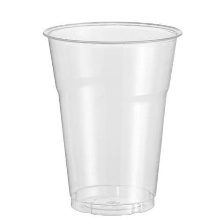glass: (40, 11, 186, 221)
